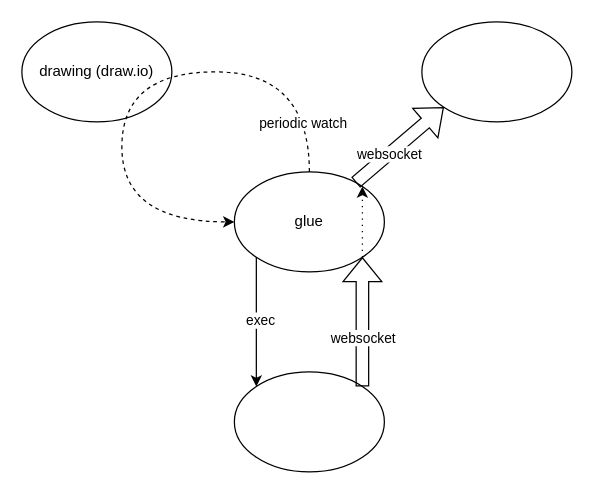
This 594x494 diagram has some shape labels left out. The shapes that lost their labels are listed below. From the top down, each one's box as (x1, y1, x2, y2) in pixels, then its label:
(421, 21, 572, 122): browser (output GUI)
(233, 371, 384, 472): compiler (drawing->JSON, exec)
